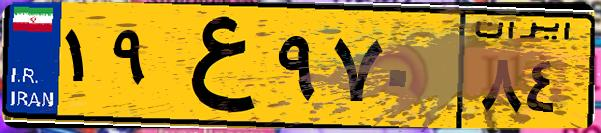0: (385, 28, 445, 110)
1: (57, 26, 110, 100)
4: (525, 38, 570, 115)
7: (330, 28, 385, 110)
8: (475, 38, 525, 113)
9: (270, 28, 330, 110), (110, 28, 158, 98)
ع: (158, 12, 270, 120)
